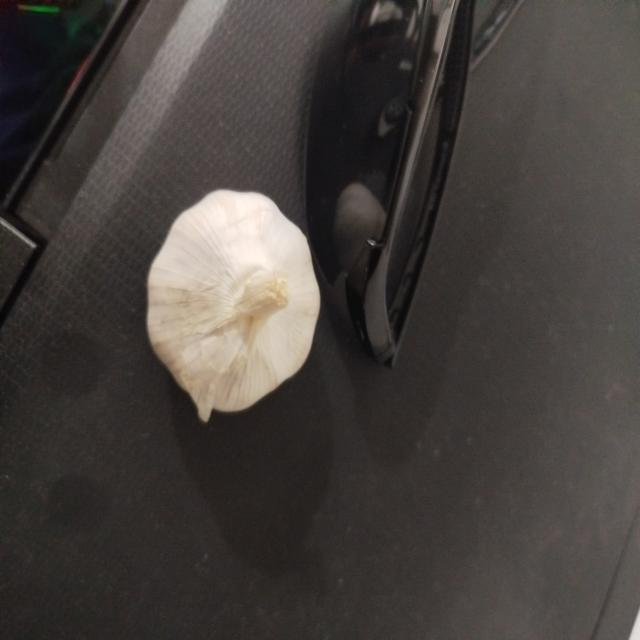garlic: (146, 188, 321, 423)
